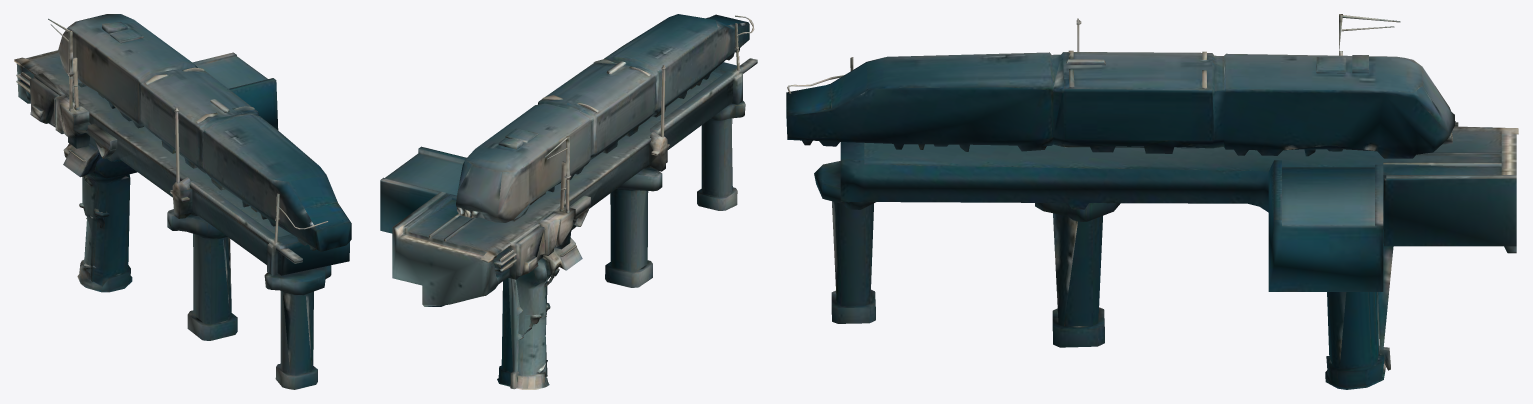
File: city_skytrain.glb
3 views of the same model, side by side, from view 1: azimuth 30°, elevation 25°; view 2: azimuth 150°, elevation 25°; view 3: azimuth 270°, elevation 25° (orthographic). The views are drawn at different scales.
Visible parts, largest first — view 1: Body; view 2: Body; view 3: Body.
Part boxes in pixels (bbox=[...]): Body: bbox=[14, 14, 351, 389]; Body: bbox=[380, 14, 757, 389]; Body: bbox=[786, 14, 1518, 389].
Bounding box in the file's own units: 8.82 × 12.22 × 24.06.
1 material, 1 textured.
